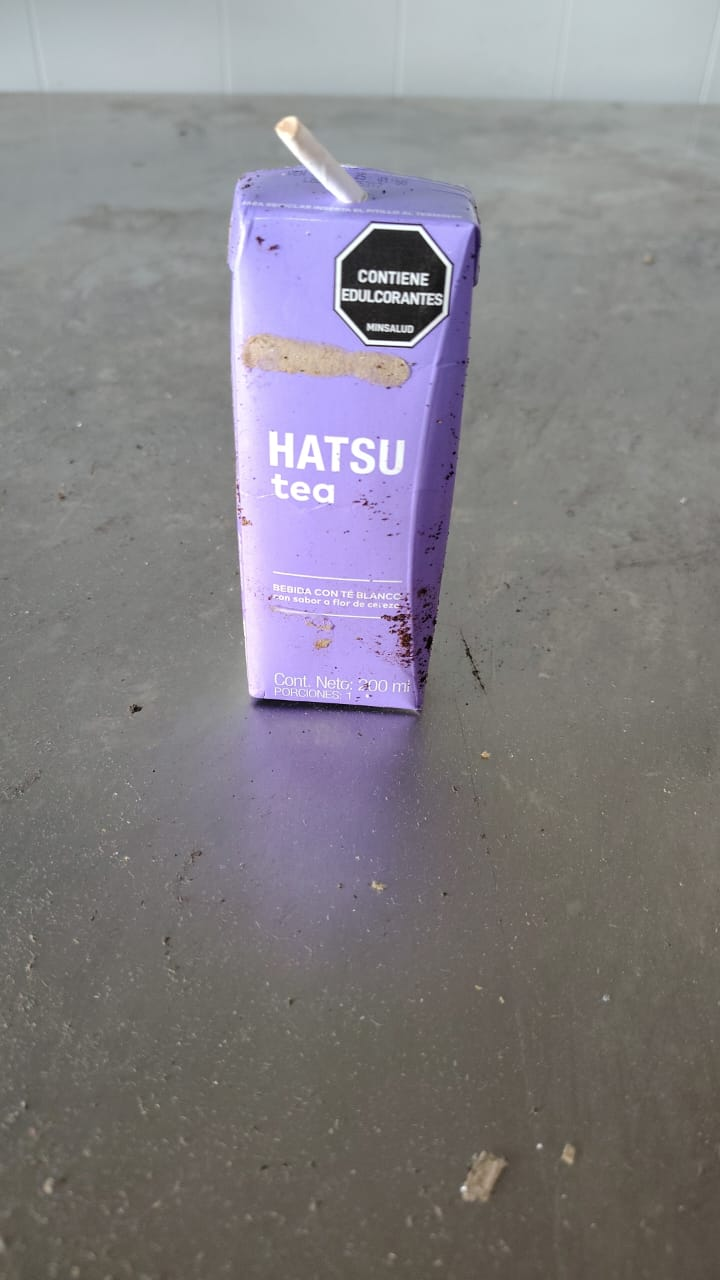Carton: (229, 170, 480, 716)
